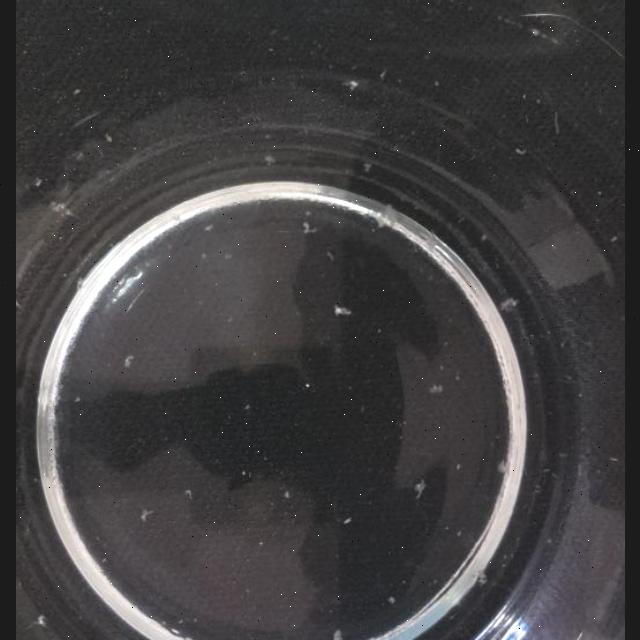Fibre: (414, 479, 426, 499), (333, 304, 351, 316), (140, 508, 154, 522), (428, 384, 444, 394), (477, 572, 488, 584), (333, 630, 343, 640), (530, 28, 540, 38)
microbeads: (302, 222, 316, 234), (344, 80, 360, 90), (264, 155, 276, 165), (124, 356, 134, 368), (74, 151, 85, 161), (223, 252, 233, 262), (326, 251, 336, 261), (362, 162, 372, 172), (32, 177, 42, 187), (204, 224, 214, 232), (386, 596, 396, 604), (515, 147, 525, 155), (184, 490, 192, 500), (379, 70, 387, 80), (343, 517, 353, 525), (283, 489, 291, 498), (72, 88, 82, 95), (200, 252, 208, 260), (73, 396, 81, 404), (226, 315, 234, 323), (243, 404, 250, 411), (456, 462, 462, 470), (456, 529, 462, 537), (434, 80, 441, 86), (258, 541, 264, 547), (305, 383, 311, 389)
